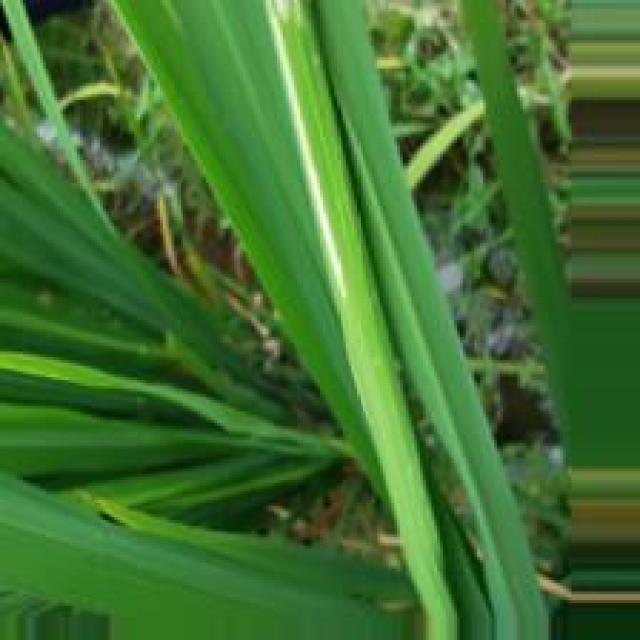Rice_Hispa: (262, 2, 349, 305)
